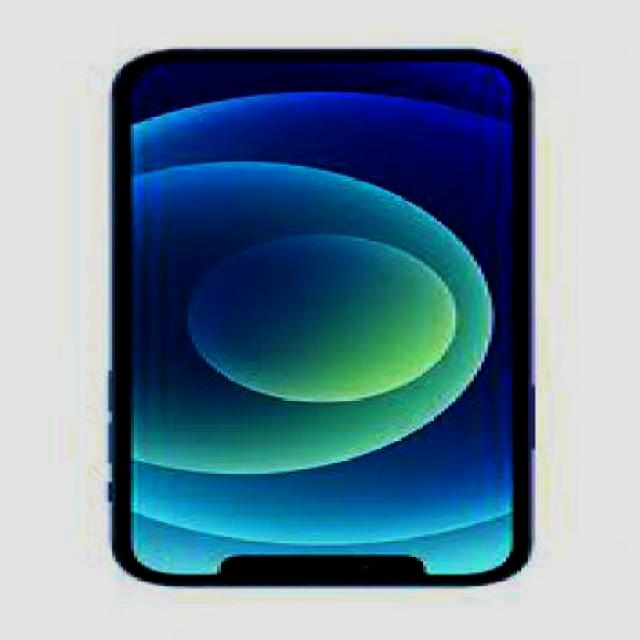phone: (112, 48, 536, 592)
